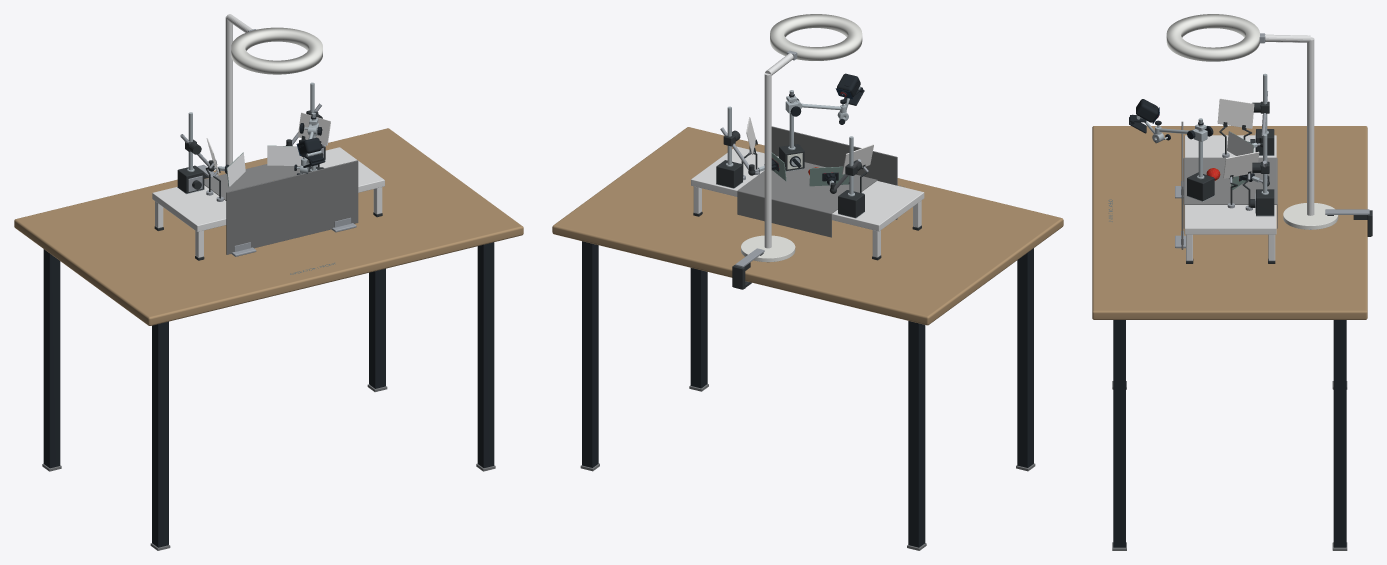
File: 河口案-鏡システム-反射板.fbx
3 views of the same model, side by side, from view 1: azimuth 30°, elevation 25°; view 2: azimuth 150°, elevation 25°; view 3: azimuth 270°, elevation 25° (orthographic).
Visible parts, largest first — view 1: Layout_Ash worktop.006, Background | grey plastic 420 x 190 x 4 mm, Layout_Steel table leg.026, Layout_Steel table leg.025, Layout_Steel table leg.024, 100-MR217W | Deck 600 x 250 x 20 mm profile, Layout_10 inch white ring shell.006, Layout_Steel table leg.027, Mat | uncut 300 x 400 mm, draped front and back, Ring | rear table stand column, Layout_Optical reflecting face.012; view 2: Layout_Ash worktop.006, Mat | uncut 300 x 400 mm, draped front and back, Layout_Steel table leg.025, Layout_Steel table leg.027, 100-MR217W | Deck 600 x 250 x 20 mm profile, Layout_Steel table leg.024, Layout_10 inch white ring shell.006, Background | grey plastic 420 x 190 x 4 mm, Layout_Steel table leg.026, Ring | rear table stand column, Layout_Round weighted white base.006, Layout_Magnetic base 58x50x55.020 (+1 smaller); view 3: Layout_Ash worktop.006, 100-MR217W | Deck 600 x 250 x 20 mm profile, Layout_Steel table leg.027, Layout_Steel table leg.026, Layout_10 inch white ring shell.006, Mat | uncut 300 x 400 mm, draped front and back, Ring | rear table stand column, Layout_Round weighted white base.006, Left reflector 100x70x3.002, Right reflector 100x70x3.002, Layout_Magnetic base 58x50x55.018, Layout_Magnetic base 58x50x55.019 (+4 smaller).
Part boxes in pixels (<box>): Layout_Ash worktop.006: <box>14,128,523,325</box>; Background | grey plastic 420 x 190 x 4 mm: <box>226,160,358,254</box>; Layout_Steel table leg.026: <box>477,242,494,467</box>; Layout_Steel table leg.025: <box>43,249,60,468</box>; Layout_Steel table leg.024: <box>152,321,168,547</box>; 100-MR217W | Deck 600 x 250 x 20 mm profile: <box>152,147,384,231</box>; Layout_10 inch white ring shell.006: <box>231,27,322,74</box>; Layout_Steel table leg.027: <box>369,268,385,388</box>; Mat | uncut 300 x 400 mm, draped front and back: <box>204,164,301,200</box>; Ring | rear table stand column: <box>225,16,232,173</box>; Layout_Optical reflecting face.012: <box>267,146,307,165</box>; Layout_Ash worktop.006: <box>552,127,1063,325</box>; Mat | uncut 300 x 400 mm, draped front and back: <box>737,162,877,237</box>; Layout_Steel table leg.025: <box>908,321,925,547</box>; Layout_Steel table leg.027: <box>582,241,598,467</box>; 100-MR217W | Deck 600 x 250 x 20 mm profile: <box>691,146,924,231</box>; Layout_Steel table leg.024: <box>1017,248,1033,467</box>; Layout_10 inch white ring shell.006: <box>770,14,862,60</box>; Background | grey plastic 420 x 190 x 4 mm: <box>771,126,897,219</box>; Layout_Steel table leg.026: <box>690,268,707,388</box>; Ring | rear table stand column: <box>764,73,771,248</box>; Layout_Round weighted white base.006: <box>741,235,795,262</box>; Layout_Magnetic base 58x50x55.020: <box>838,190,864,217</box>; Layout_Ash worktop.006: <box>1092,126,1367,319</box>; 100-MR217W | Deck 600 x 250 x 20 mm profile: <box>1184,135,1276,234</box>; Layout_Steel table leg.027: <box>1333,320,1346,547</box>; Layout_Steel table leg.026: <box>1113,320,1125,547</box>; Layout_10 inch white ring shell.006: <box>1166,14,1259,61</box>; Mat | uncut 300 x 400 mm, draped front and back: <box>1183,157,1277,228</box>; Ring | rear table stand column: <box>1307,37,1314,215</box>; Layout_Round weighted white base.006: <box>1283,203,1338,229</box>; Left reflector 100x70x3.002: <box>1217,98,1254,128</box>; Right reflector 100x70x3.002: <box>1223,151,1259,178</box>; Layout_Magnetic base 58x50x55.018: <box>1187,172,1214,200</box>; Layout_Magnetic base 58x50x55.019: <box>1256,189,1274,215</box>.
Size of the model in its own units: 120 by 130 by 76.4.
